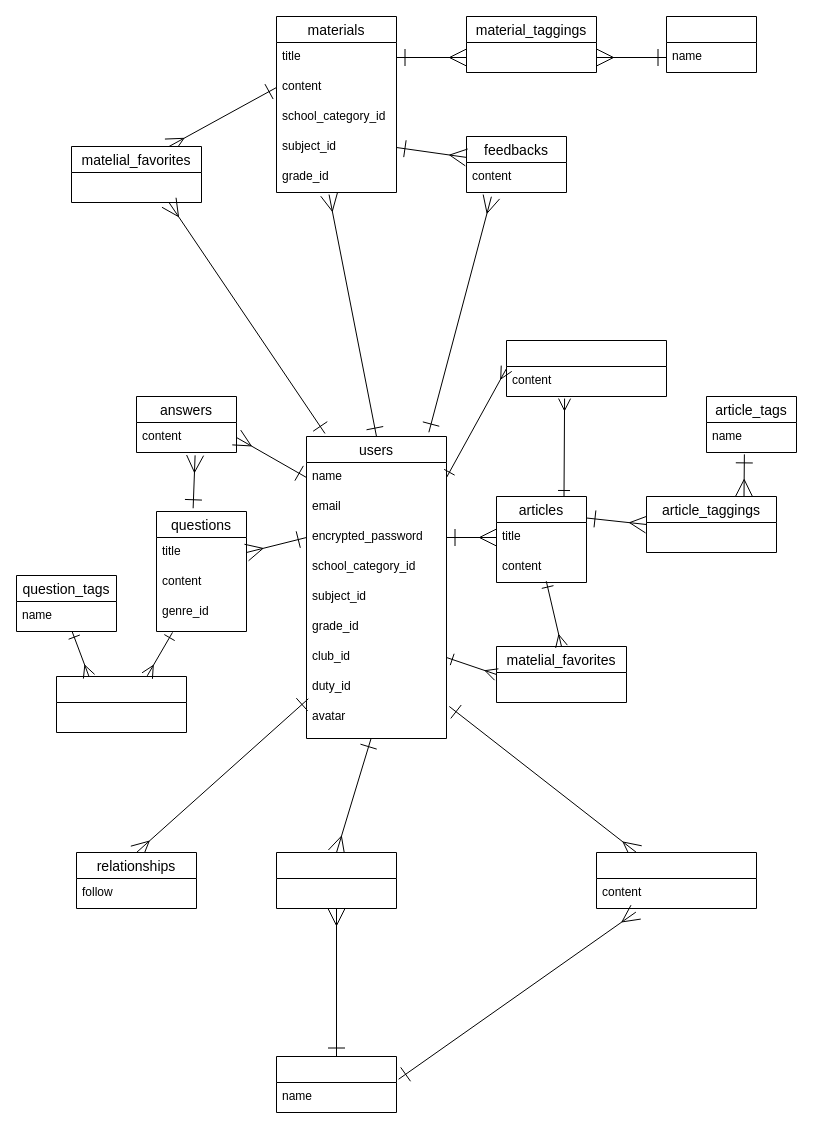
Some shapes in this 813 by 1129 pixel diagram are drawn without their labels. Each missing label, with the box of its shape:
comments: (506, 340, 666, 396)
matelial_tags: (666, 16, 756, 72)
members: (276, 852, 396, 908)
messages: (596, 852, 756, 908)
question_taggings: (56, 676, 186, 732)
rooms: (276, 1056, 396, 1112)
